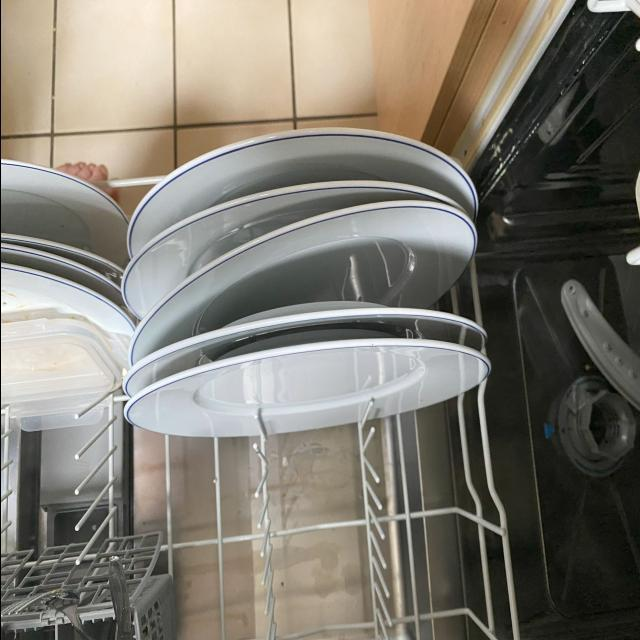empty_slot: (194, 452, 441, 622)
